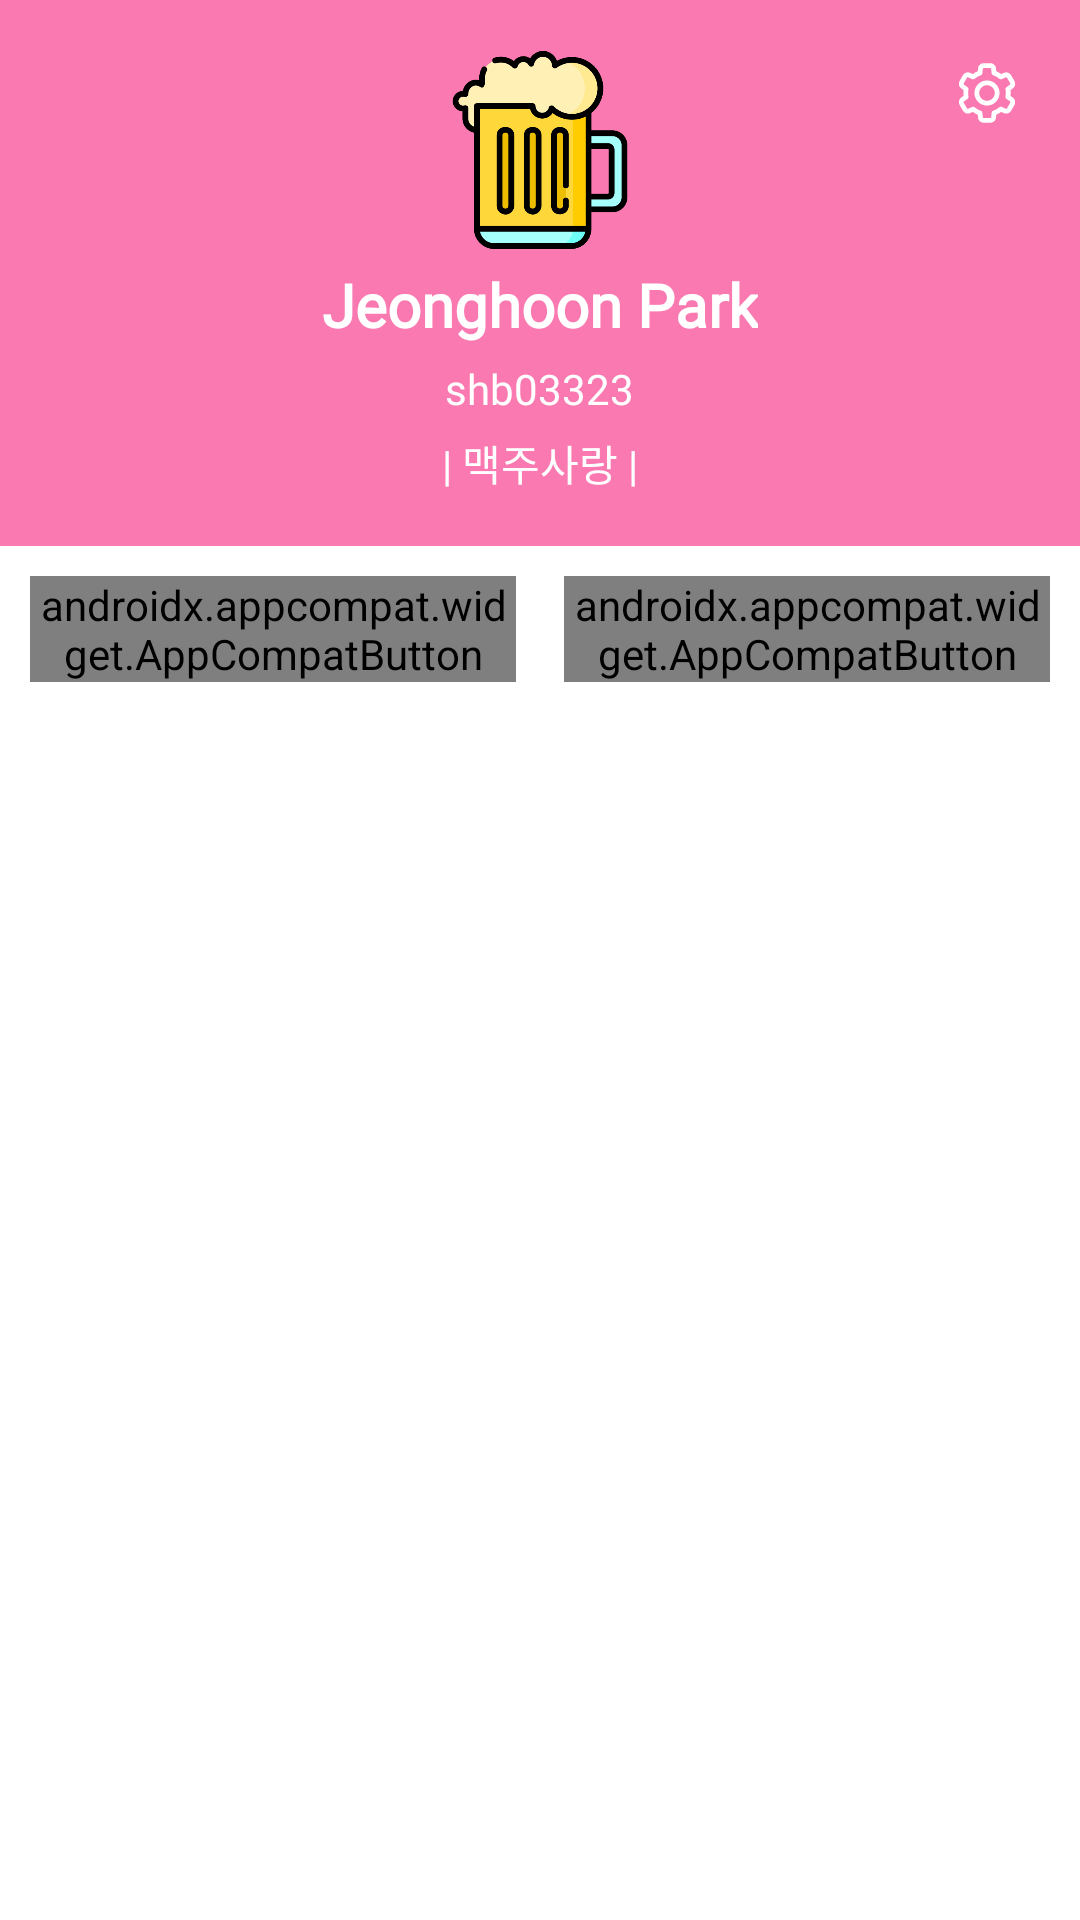

Named icons in this screenshot (1080×1920) and their bounding boxes, bbox(x1, y1, x2, y2):
settings: bbox(959, 63, 1015, 123)
